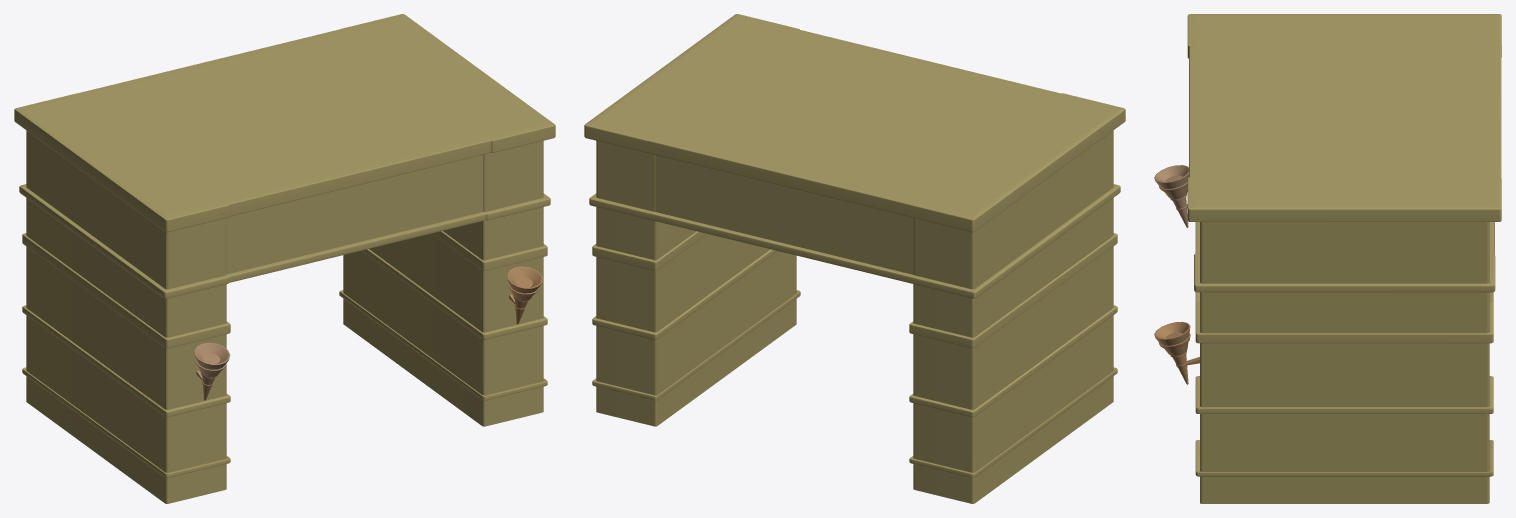
Rendered from Menu.fbx.
3 views of the same model, side by side, from view 1: azimuth 30°, elevation 25°; view 2: azimuth 150°, elevation 25°; view 3: azimuth 270°, elevation 25° (orthographic). The views are drawn at different scales.
Parts seen in each view (by area): view 1: Entrada, Candelabro_1, Candelabro_2; view 2: Entrada; view 3: Entrada, Candelabro_2, Candelabro_1.
Boxes of the visible parts, bbox=[...] form: Entrada: bbox=[14, 14, 555, 503]; Candelabro_1: bbox=[194, 342, 229, 400]; Candelabro_2: bbox=[507, 266, 542, 324]; Entrada: bbox=[584, 14, 1125, 503]; Entrada: bbox=[1187, 14, 1501, 503]; Candelabro_2: bbox=[1154, 321, 1199, 384]; Candelabro_1: bbox=[1154, 165, 1188, 227].
Bounding box in the file's own units: 2375 × 1686 × 1783.
